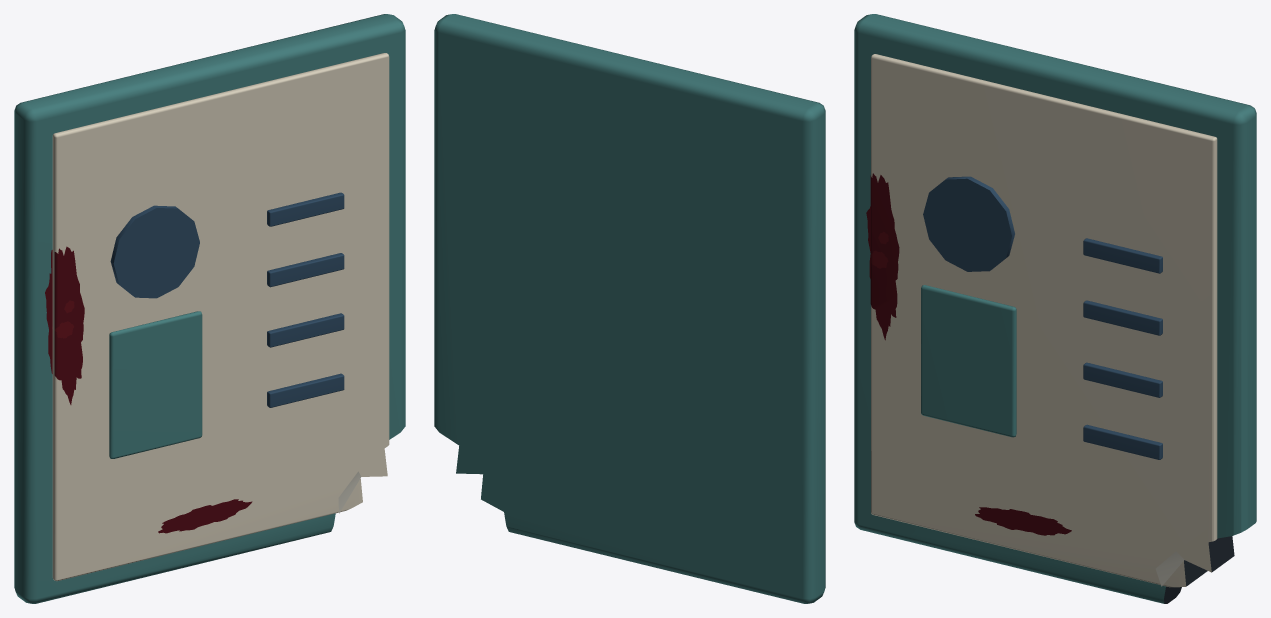
Rendered from lobby_t2_health_poster.glb.
The picture shows the model from 3 angles, left to right: view 1: azimuth 30°, elevation 25°; view 2: azimuth 150°, elevation 25°; view 3: azimuth 330°, elevation 25°; orthographic projection. The views are drawn at different scales.
Visible parts, largest first — view 1: lobby_t2_health_poster_Outbreak_Static; view 2: lobby_t2_health_poster_Outbreak_Static; view 3: lobby_t2_health_poster_Outbreak_Static.
Part boxes in pixels (x1=…): lobby_t2_health_poster_Outbreak_Static: x1=14, y1=14, x2=405, y2=603; lobby_t2_health_poster_Outbreak_Static: x1=434, y1=14, x2=825, y2=603; lobby_t2_health_poster_Outbreak_Static: x1=854, y1=14, x2=1256, y2=603.
Bounding box in the file's own units: 0.66 × 0.82 × 0.0775.
